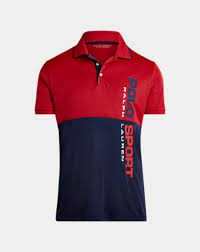C_polo shirt: (34, 34, 175, 225)
